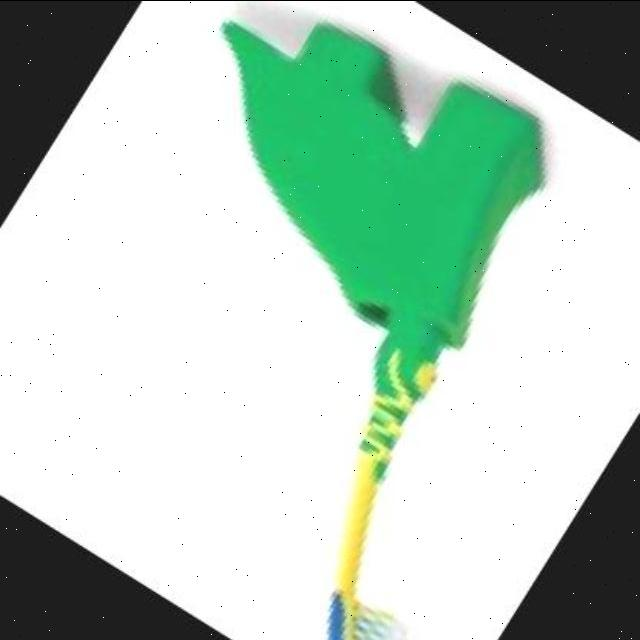toothbrush: (200, 256, 616, 640)
